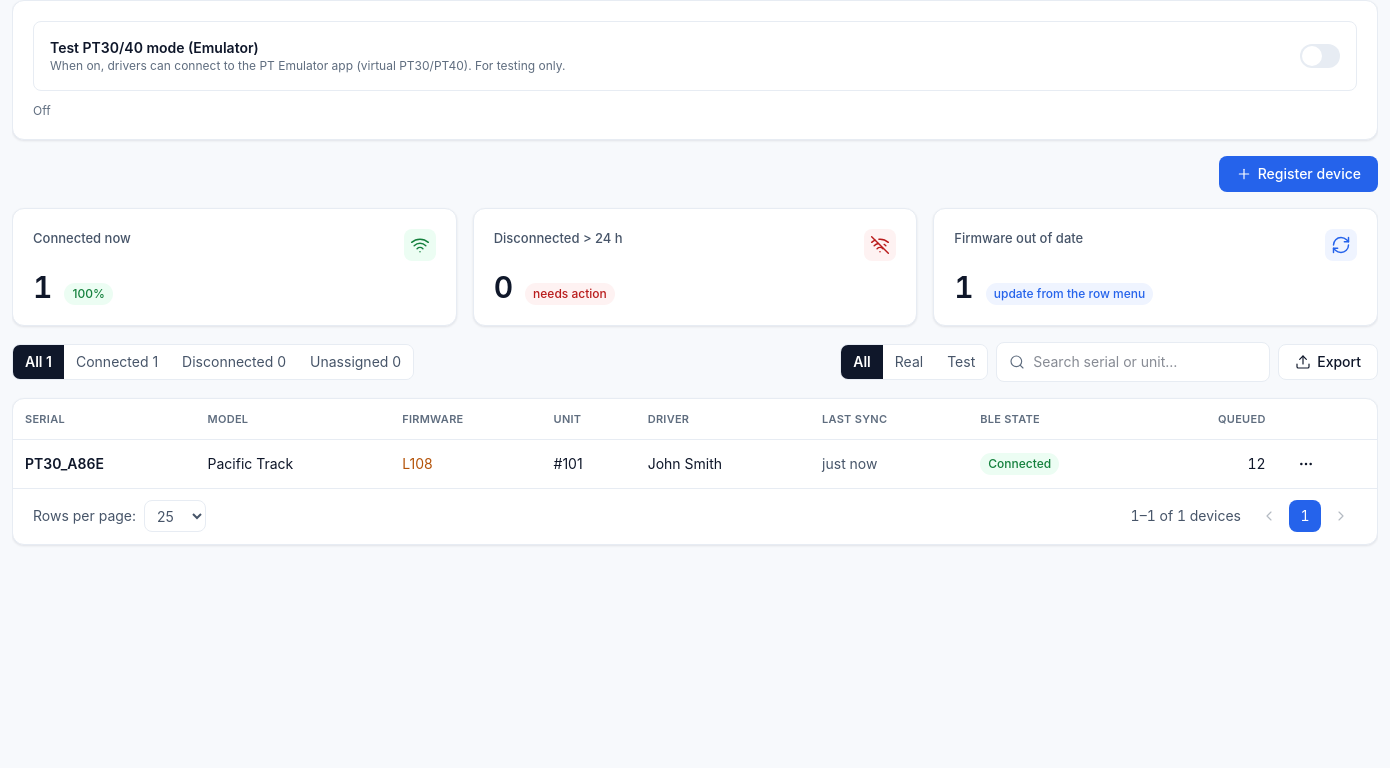
Test case: DevicesPage — W-20 › shows an error toast when the export request fails
Check: the text "PT30_A86E" is shown, box x1=25 y1=454 x2=104 y2=474
Step 1. Click the button "Export" → (1328, 362), box x1=1278 y1=344 x2=1378 y2=380
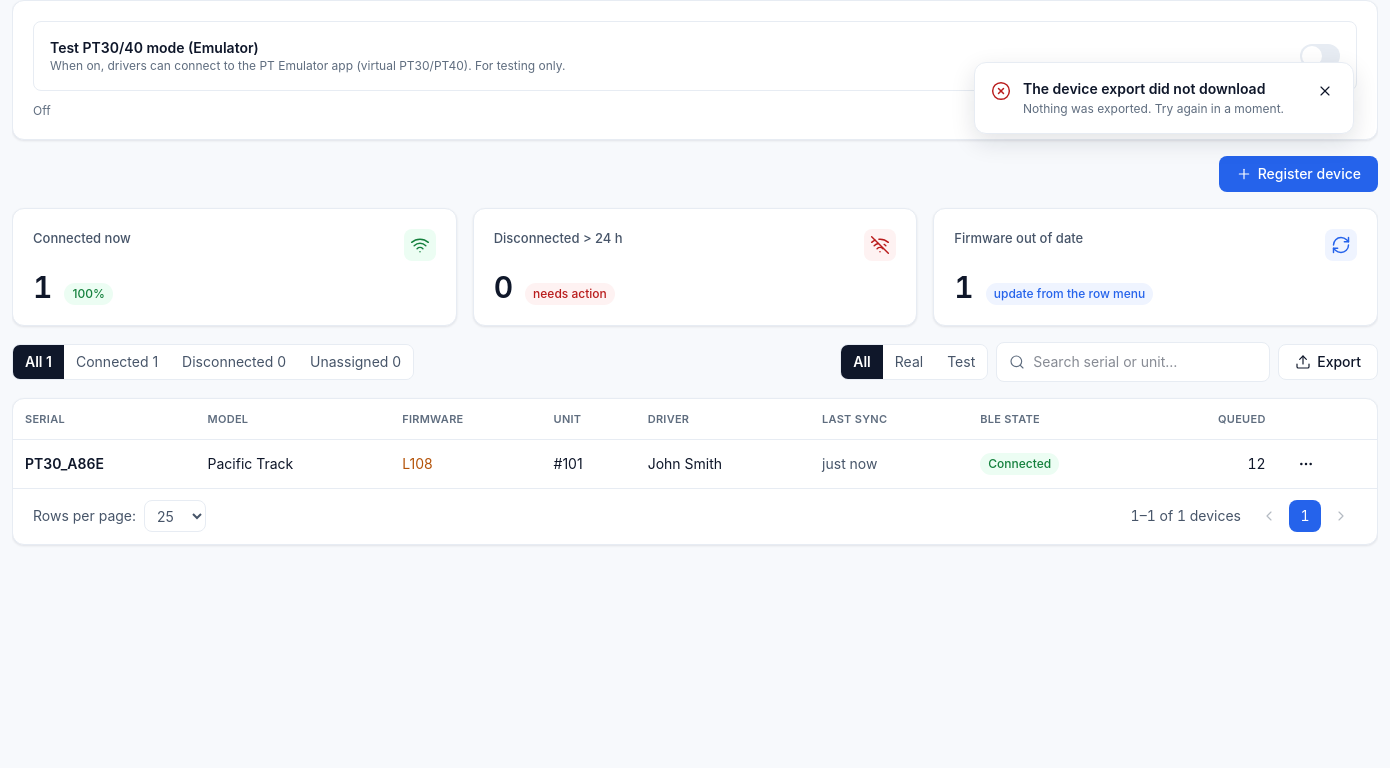
Check: the text "The device export did not download" is shown, box x1=1023 y1=79 x2=1301 y2=99
